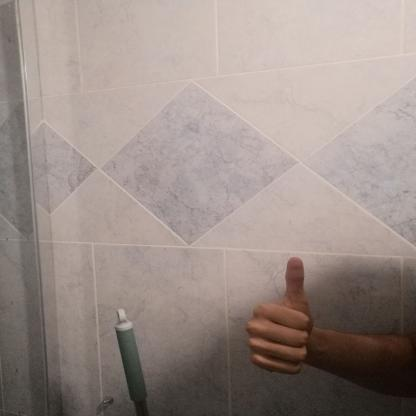ALIF: (237, 249, 328, 384)
